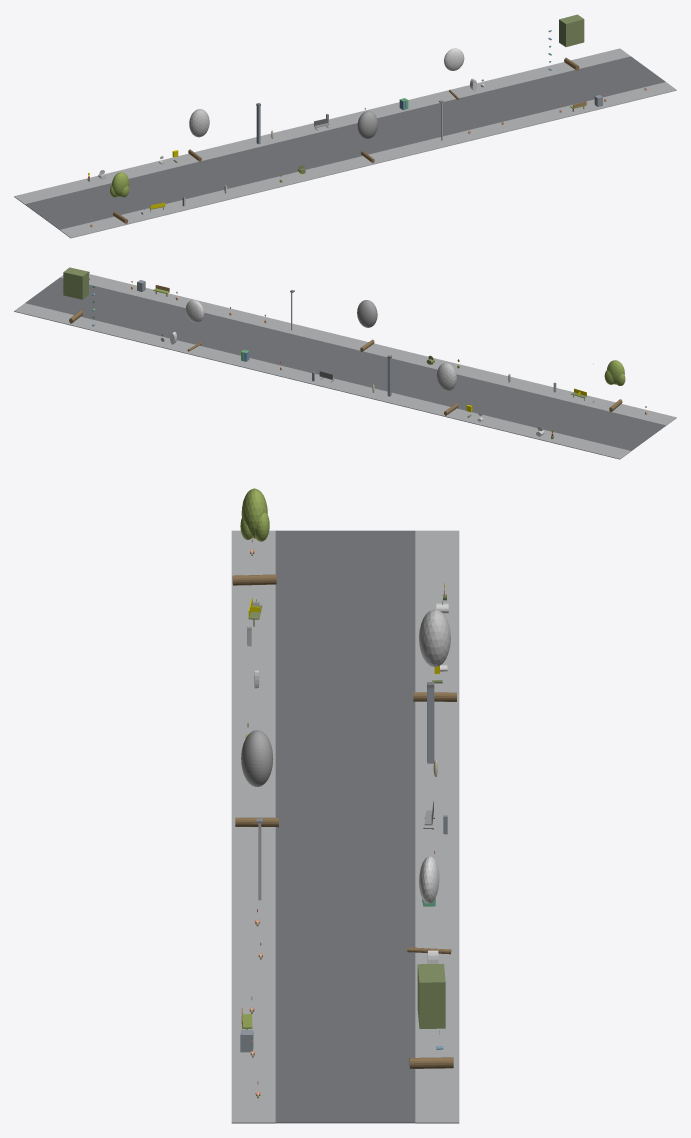
3 renders of one model, top to bottom at view 1: azimuth 30°, elevation 25°; view 2: azimuth 150°, elevation 25°; view 3: azimuth 270°, elevation 25°, orthographic. The views are drawn at different scales.
Visible parts, largest first — view 1: road_slab, sidewalk_left, sidewalk_right, inst_0016, inst_0013, inst_0014, inst_0012, inst_0015; view 2: road_slab, sidewalk_right, sidewalk_left, inst_0016, inst_0013, inst_0014, inst_0012, inst_0015; view 3: road_slab, sidewalk_left, sidewalk_right, inst_0016, inst_0014, inst_0013, inst_0012, inst_0015.
Boxes of the visible parts, x1=… form: road_slab: x1=25, y1=56, x2=665, y2=229; sidewalk_left: x1=60, y1=82, x2=676, y2=238; sidewalk_right: x1=14, y1=48, x2=630, y2=204; inst_0016: x1=559, y1=14, x2=584, y2=70; inst_0013: x1=188, y1=109, x2=209, y2=161; inst_0014: x1=357, y1=111, x2=377, y2=163; inst_0012: x1=110, y1=172, x2=129, y2=223; inst_0015: x1=444, y1=48, x2=464, y2=100; road_slab: x1=25, y1=277, x2=665, y2=450; sidewalk_right: x1=14, y1=303, x2=630, y2=459; sidewalk_left: x1=60, y1=274, x2=676, y2=425; inst_0016: x1=63, y1=267, x2=88, y2=323; inst_0013: x1=436, y1=362, x2=458, y2=415; inst_0014: x1=357, y1=300, x2=377, y2=351; inst_0012: x1=604, y1=360, x2=625, y2=411; inst_0015: x1=185, y1=300, x2=204, y2=351; road_slab: x1=275, y1=530, x2=415, y2=1123; sidewalk_left: x1=231, y1=530, x2=275, y2=1123; sidewalk_right: x1=415, y1=530, x2=459, y2=1123; inst_0016: x1=409, y1=963, x2=453, y2=1068; inst_0014: x1=235, y1=730, x2=278, y2=827; inst_0013: x1=413, y1=609, x2=456, y2=701; inst_0012: x1=232, y1=488, x2=276, y2=585; inst_0015: x1=407, y1=856, x2=451, y2=954.
Size of the model in its own units: 80 by 6.08 by 13.
